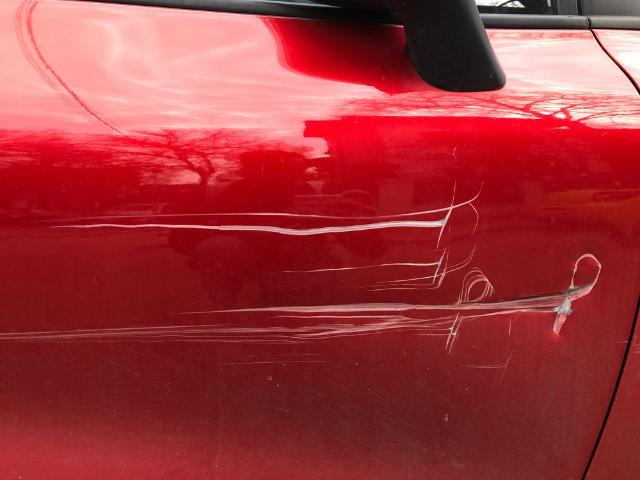scratch: (0, 192, 617, 374)
